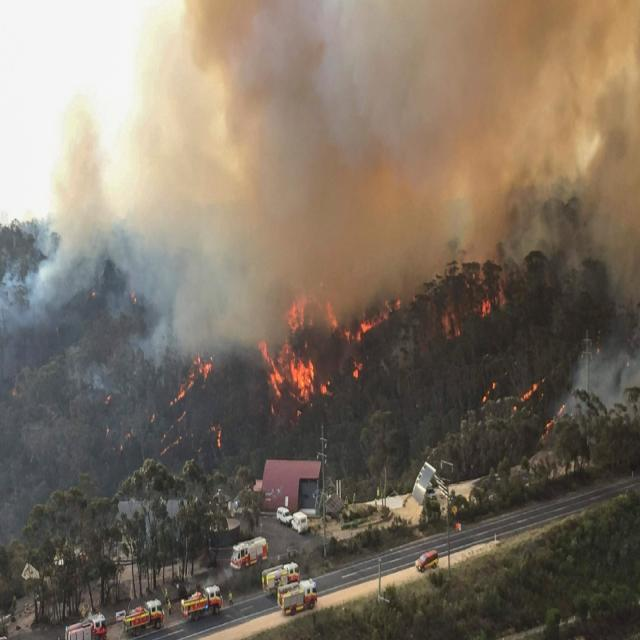Fire: (254, 340, 328, 396), (167, 358, 212, 405), (284, 290, 312, 330), (346, 318, 382, 340), (322, 302, 338, 330), (520, 382, 538, 405), (541, 416, 555, 438), (480, 298, 492, 318), (351, 358, 363, 376), (215, 426, 224, 446)
Smoke: (240, 0, 444, 362), (445, 0, 640, 276), (100, 0, 238, 387), (2, 5, 109, 338), (510, 175, 640, 308), (558, 336, 638, 434)
